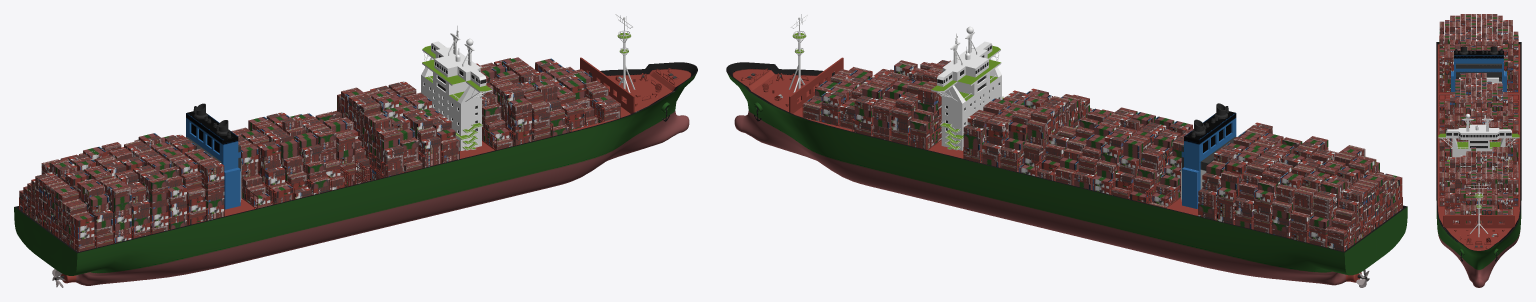
File: container_ship_3d.glb
3 views of the same model, side by side, from view 1: azimuth 30°, elevation 25°; view 2: azimuth 150°, elevation 25°; view 3: azimuth 270°, elevation 25° (orthographic). The views are drawn at different scales.
Visible parts, largest first — view 1: _gltfNode_1, _gltfNode_4, _gltfNode_3, _gltfNode_0, _gltfNode_2; view 2: _gltfNode_1, _gltfNode_3, _gltfNode_4, _gltfNode_0, _gltfNode_2; view 3: _gltfNode_1, _gltfNode_3, _gltfNode_4, _gltfNode_0, _gltfNode_2.
Boxes of the visible parts, box(x1,y1,x2,y2) form: _gltfNode_1: box(14, 17, 697, 287); _gltfNode_4: box(19, 58, 620, 251); _gltfNode_3: box(20, 57, 620, 249); _gltfNode_0: box(19, 14, 635, 251); _gltfNode_2: box(48, 141, 494, 287); _gltfNode_1: box(726, 17, 1407, 287); _gltfNode_3: box(803, 60, 1402, 251); _gltfNode_4: box(803, 60, 1402, 248); _gltfNode_0: box(788, 14, 1402, 251); _gltfNode_2: box(928, 140, 1402, 279); _gltfNode_1: box(1436, 42, 1521, 287); _gltfNode_3: box(1439, 15, 1518, 223); _gltfNode_4: box(1439, 14, 1518, 223); _gltfNode_0: box(1439, 35, 1518, 236); _gltfNode_2: box(1439, 35, 1518, 223).
Bounding box in the file's own units: 17.59 × 4.14 × 2.97.
Materials: 1 (1 with a texture image).
